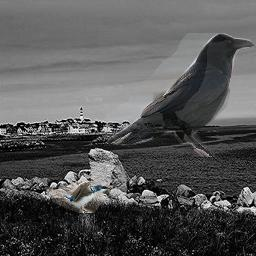Crow: (106, 33, 255, 157)
Swallow: (49, 180, 110, 213)
